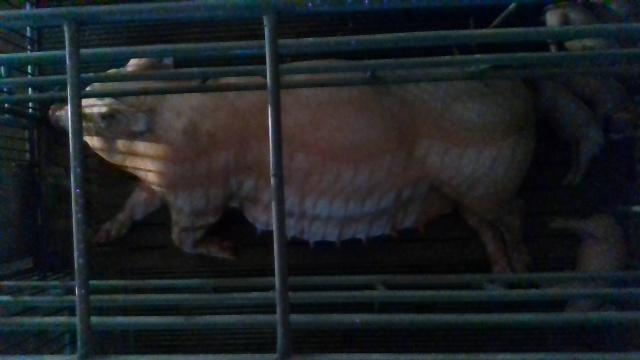piglet: (549, 213, 628, 312), (536, 78, 606, 186), (545, 4, 625, 67)
sow-sleep-lactate: (51, 57, 531, 272)
